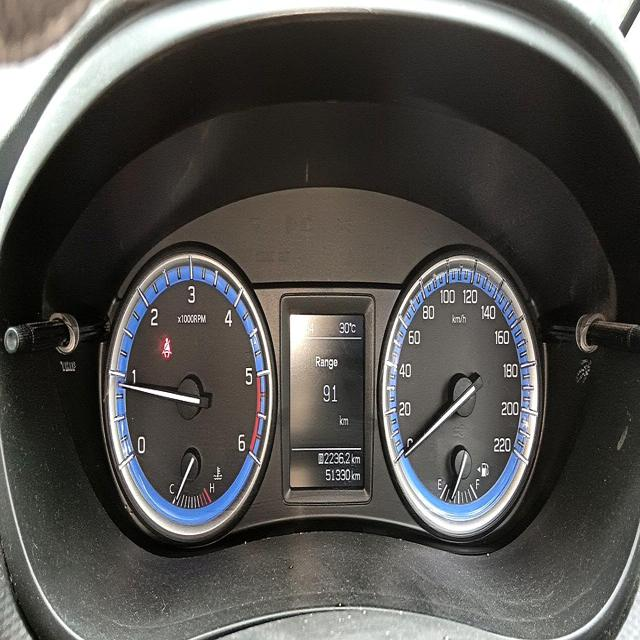odometer: (323, 465, 351, 484)
